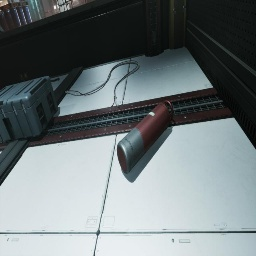NitrogenTank ,: (117, 100, 173, 174)
